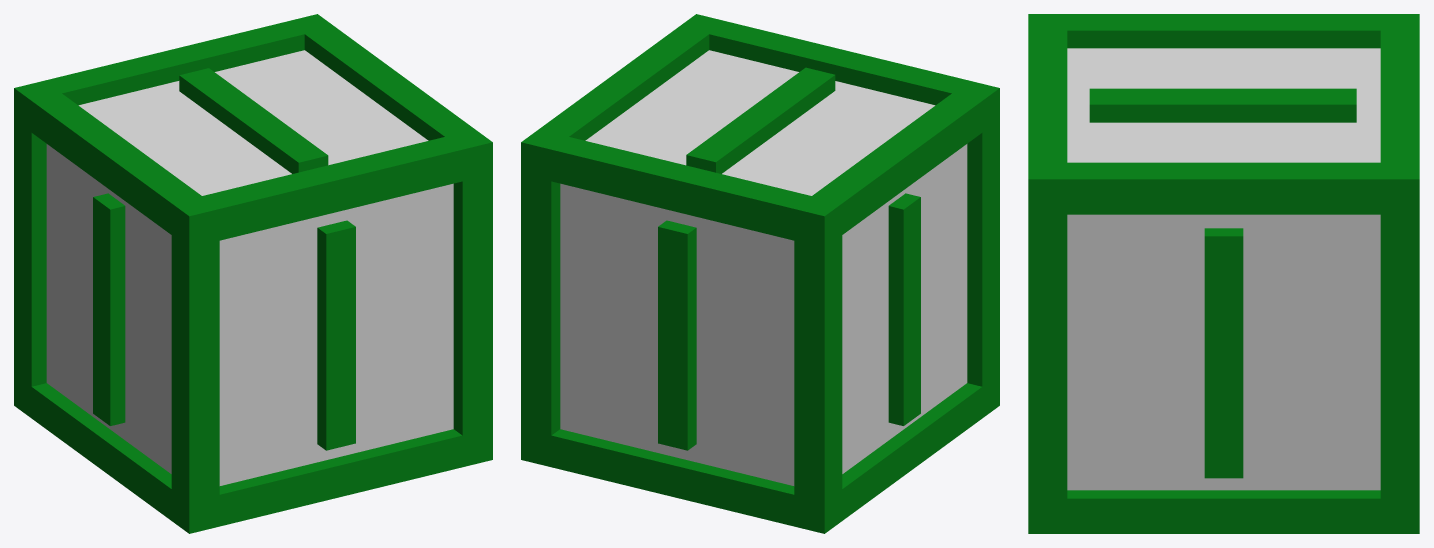
3 views of the same model, side by side, from view 1: azimuth 30°, elevation 25°; view 2: azimuth 150°, elevation 25°; view 3: azimuth 270°, elevation 25° (orthographic). The views are drawn at different scales.
Parts seen in each view (by area): view 1: Cube, Text.001, Text.002, Text; view 2: Cube, Text.004, Text.002, Text; view 3: Cube, Text.003, Text.
Boxes of the visible parts, x1,y1,x2,y2 form: Cube: (14,14,492,533); Text.001: (317,220,355,450); Text.002: (93,193,125,425); Text: (179,68,328,173); Cube: (521,14,999,533); Text.004: (658,220,696,450); Text.002: (888,193,920,425); Text: (686,67,835,173); Cube: (1028,14,1419,533); Text.003: (1204,228,1243,478); Text: (1089,88,1356,122).
Bounding box in the file's own units: 200 × 200 × 200.
